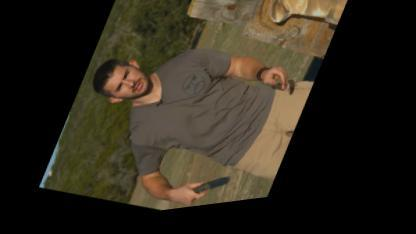knife: (182, 168, 241, 212)
